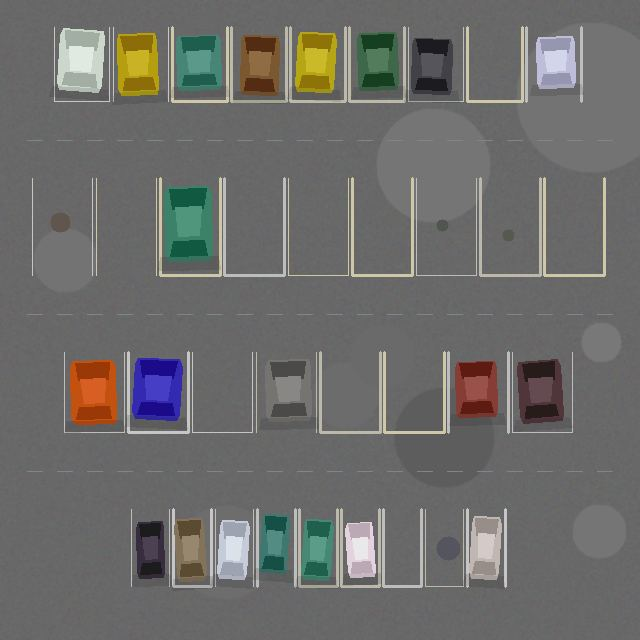space-empty: (32, 178, 92, 275), (96, 178, 156, 275), (224, 178, 284, 275), (288, 178, 348, 275), (352, 178, 412, 275), (416, 178, 476, 275), (480, 178, 540, 275), (544, 178, 604, 275), (192, 352, 252, 432), (320, 352, 380, 432), (384, 352, 444, 432), (467, 27, 522, 101), (383, 509, 421, 586), (425, 509, 463, 586)
space-occupied: (160, 178, 220, 275), (64, 352, 124, 432), (128, 352, 188, 432), (256, 352, 316, 432), (448, 352, 508, 432), (512, 352, 572, 432), (54, 27, 109, 101), (113, 27, 168, 101), (172, 27, 227, 101), (231, 27, 286, 101), (290, 27, 345, 101), (349, 27, 404, 101), (408, 27, 463, 101), (526, 27, 581, 101), (131, 509, 169, 586), (173, 509, 211, 586), (215, 509, 253, 586), (257, 509, 295, 586), (299, 509, 337, 586), (341, 509, 379, 586), (467, 509, 505, 586)
